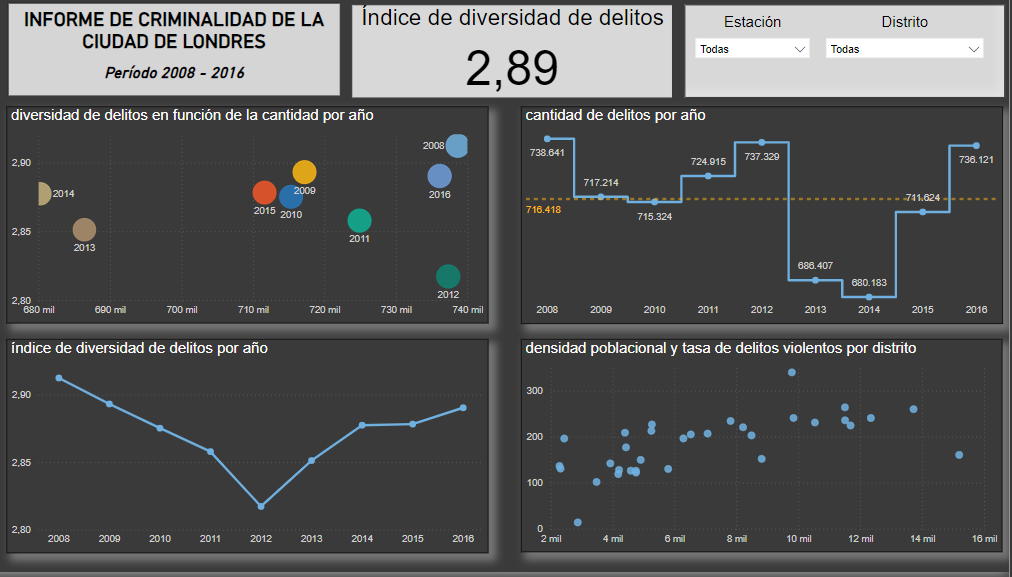

What the dashboard file says about the page in this screenshot:
{"tool":"powerbi","page":{"name":"Diversidad de Delitos","canvas":[1280,720],"ordinal":2},"visuals":[{"type":"textbox","box":[32.8,11.5,414.1,116.2],"z":0,"group":"g2"},{"type":"shape","box":[875.9,13.3,399.2,116.1],"z":0,"group":"g1"},{"type":"lineChart","title":"índice de diversidad de delitos por año","fields":{"Category":["dim_calendario.#Año"],"Y":["metricas.006# indice diversidad delitos"]},"box":[32.6,429.5,599.8,266.4],"z":0},{"type":"actionButton","box":[32.8,11.5,414.1,116.2],"z":1000,"group":"g2"},{"type":"scatterChart","title":"densidad poblacional y tasa de delitos violentos por distrito","fields":{"Y":["metricas.001 #tasa de delitos violentos"],"X":["metricas.004 #densidad poblacional"],"Category":["dim_distrito.distrito"]},"box":[672.4,429.6,599.5,265.2],"z":1000},{"type":"scatterChart","title":"diversidad de delitos en función de la cantidad por año","fields":{"Y":["metricas.006# indice diversidad delitos"],"X":["metricas.#cant. crimenes"],"Series":["dim_calendario.#Año"],"Size":["metricas.#cant. crimenes"]},"box":[32.6,139.5,599.8,270],"z":2000},{"type":"group","id":"g1","title":"Grupo 1","box":[875.9,13.3,399.2,116.1],"z":3000},{"type":"lineChart","title":"cantidad de delitos por año","fields":{"Y":["metricas.#cant. crimenes"],"Category":["dim_calendario.#Año"]},"box":[672.6,139.6,599.7,270.4],"z":4000},{"type":"card","title":"Índice de diversidad de delitos","fields":{"Values":["metricas.006# indice diversidad delitos"]},"box":[461.5,12.5,399.9,116.6],"z":5000},{"type":"slicer","title":"Estación","fields":{"Values":["dim_clima.estacion"]},"box":[879.6,23.9,162.2,87.5],"z":6000},{"type":"group","id":"g2","title":"Grupo 1","box":[32.8,11.5,414.1,116.2],"z":7000},{"type":"slicer","title":"Distrito","fields":{"Values":["dim_distrito.distrito"]},"box":[1042.9,24.4,216.3,85.9],"z":8000,"group":"g1"}]}

Visuals, with their boxes in screenshot pixels (x1, y1, x2, y2), scaled from the page's 1280x720 canvas onto the 1012x577 screenshot:
textbox: locate(26, 9, 353, 102)
shape: locate(693, 11, 1008, 104)
"índice de diversidad de delitos por año" lineChart: locate(26, 344, 500, 558)
actionButton: locate(26, 9, 353, 102)
"densidad poblacional y tasa de delitos violentos por distrito" scatterChart: locate(532, 344, 1006, 557)
"diversidad de delitos en función de la cantidad por año" scatterChart: locate(26, 112, 500, 328)
"Grupo 1" group: locate(693, 11, 1008, 104)
"cantidad de delitos por año" lineChart: locate(532, 112, 1006, 329)
"Índice de diversidad de delitos" card: locate(365, 10, 681, 103)
"Estación" slicer: locate(695, 19, 824, 89)
"Grupo 1" group: locate(26, 9, 353, 102)
"Distrito" slicer: locate(825, 20, 996, 88)
